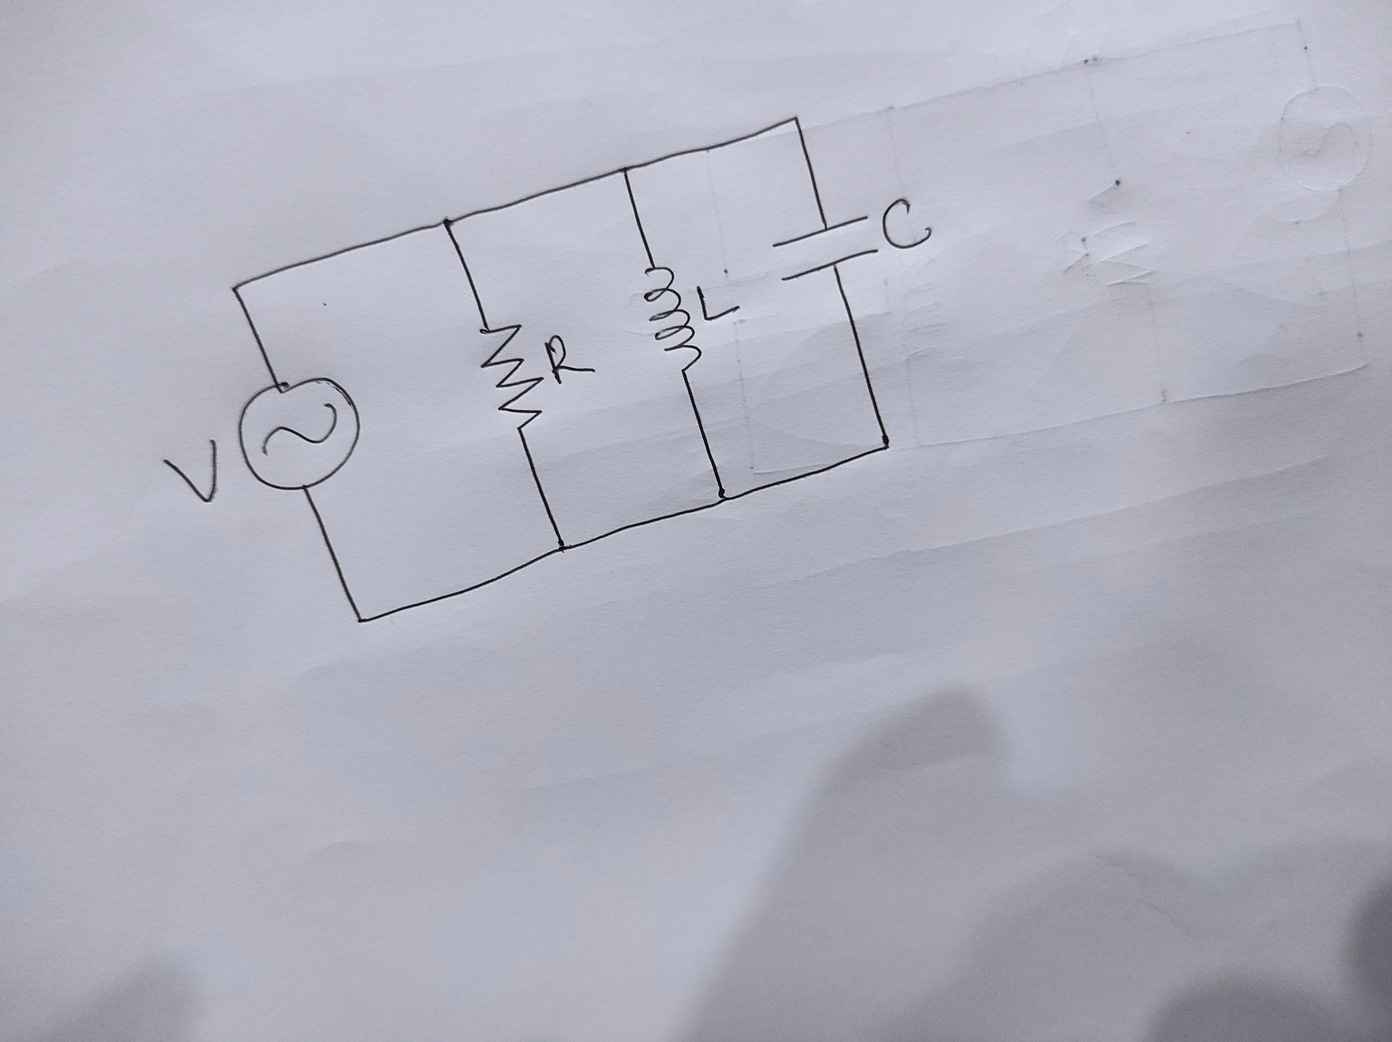capacitor.unpolarized: (769, 212, 881, 283)
inductor: (641, 264, 705, 375)
junction: (541, 528, 583, 567), (869, 428, 900, 460), (706, 486, 735, 514), (437, 213, 459, 234), (350, 611, 373, 628), (788, 109, 807, 126), (615, 163, 635, 178), (227, 281, 243, 297)
resistor: (477, 320, 546, 433)
text: (160, 435, 222, 505), (543, 332, 598, 387), (881, 196, 935, 253), (694, 282, 743, 323)
voltage.dc_ac: (235, 375, 363, 494)
